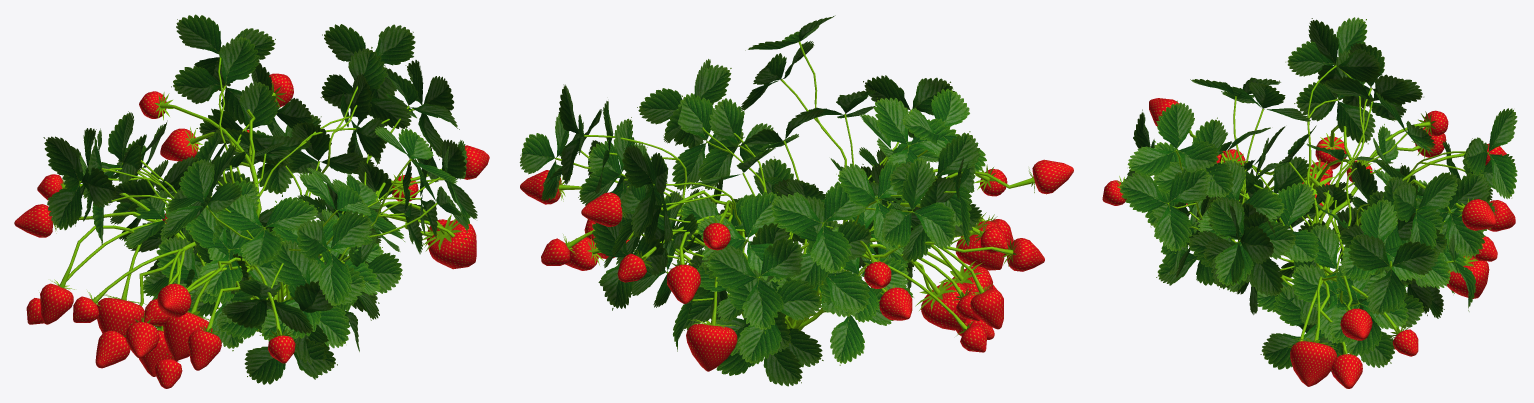
File: strawberry_plant_02.obj
3 views of the same model, side by side, from view 1: azimuth 30°, elevation 25°; view 2: azimuth 150°, elevation 25°; view 3: azimuth 270°, elevation 25° (orthographic). The views are drawn at different scales.
Parts seen in each view (by area): view 1: Strawberry_002; view 2: Strawberry_002; view 3: Strawberry_002.
Boxes of the visible parts, bbox=[...] form: Strawberry_002: bbox=[14, 14, 489, 388]; Strawberry_002: bbox=[519, 15, 1073, 386]; Strawberry_002: bbox=[1102, 17, 1517, 388].
Bounding box in the file's own units: 0.5393 × 0.3019 × 0.451.
5 materials, 5 textured.
